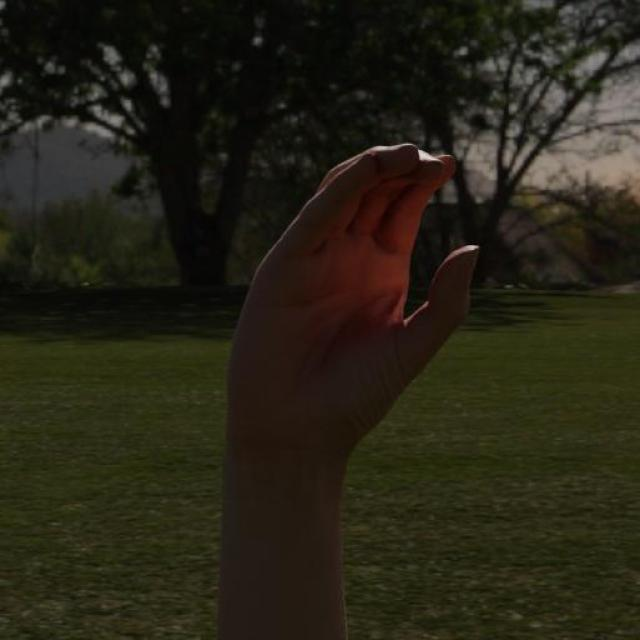C: (217, 137, 489, 518)
